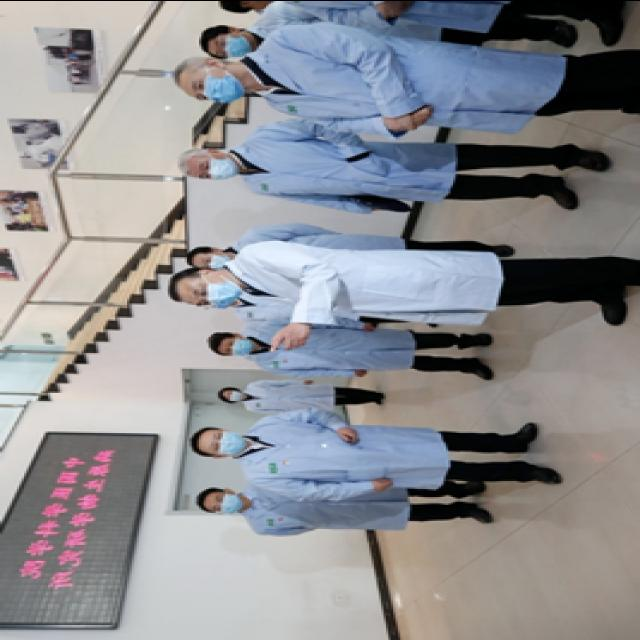with_mask: (187, 70, 244, 100), (190, 278, 244, 308), (192, 153, 240, 180), (211, 28, 254, 58), (206, 429, 246, 456), (220, 334, 256, 356), (208, 492, 244, 514), (197, 252, 234, 270), (220, 388, 247, 402)
